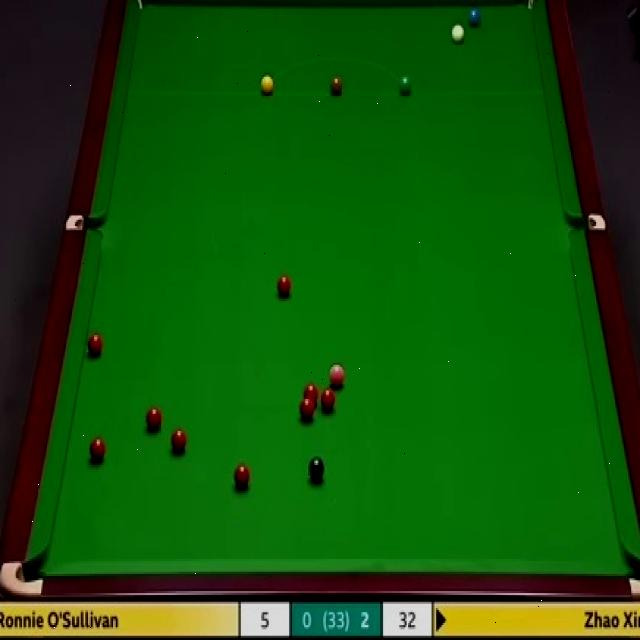black-ball: (309, 456, 326, 481)
blue-ball: (469, 8, 479, 30)
brown-ball: (329, 77, 344, 94)
green-ball: (398, 72, 413, 98)
pink-ball: (328, 367, 345, 384)
red-ball: (232, 462, 252, 488), (297, 396, 317, 421), (170, 430, 189, 455), (89, 438, 107, 464), (301, 382, 319, 408), (146, 407, 163, 434), (319, 389, 338, 412), (86, 331, 104, 355), (275, 274, 292, 296)
white-ball: (450, 23, 464, 45)
yellow-ball: (260, 74, 274, 95)
